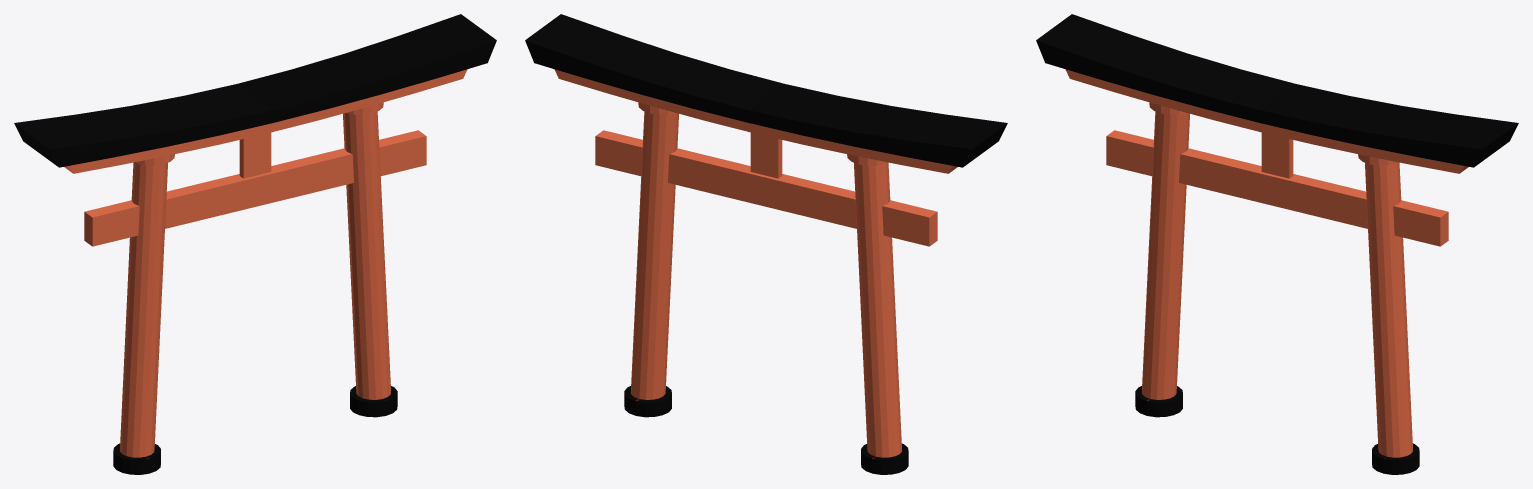
The model's file is torii.obj.
The picture shows the model from 3 angles, left to right: view 1: azimuth 30°, elevation 25°; view 2: azimuth 150°, elevation 25°; view 3: azimuth 330°, elevation 25°; orthographic projection.
Visible parts, largest first — view 1: 鳥居; view 2: 鳥居; view 3: 鳥居.
Boxes of the visible parts, x1,y1,x2,y2 form: 鳥居: (14, 14, 496, 474); 鳥居: (525, 14, 1007, 474); 鳥居: (1036, 14, 1518, 474).
Bounding box in the file's own units: 16.06 × 12.17 × 2.24.
1 material, 1 textured.
